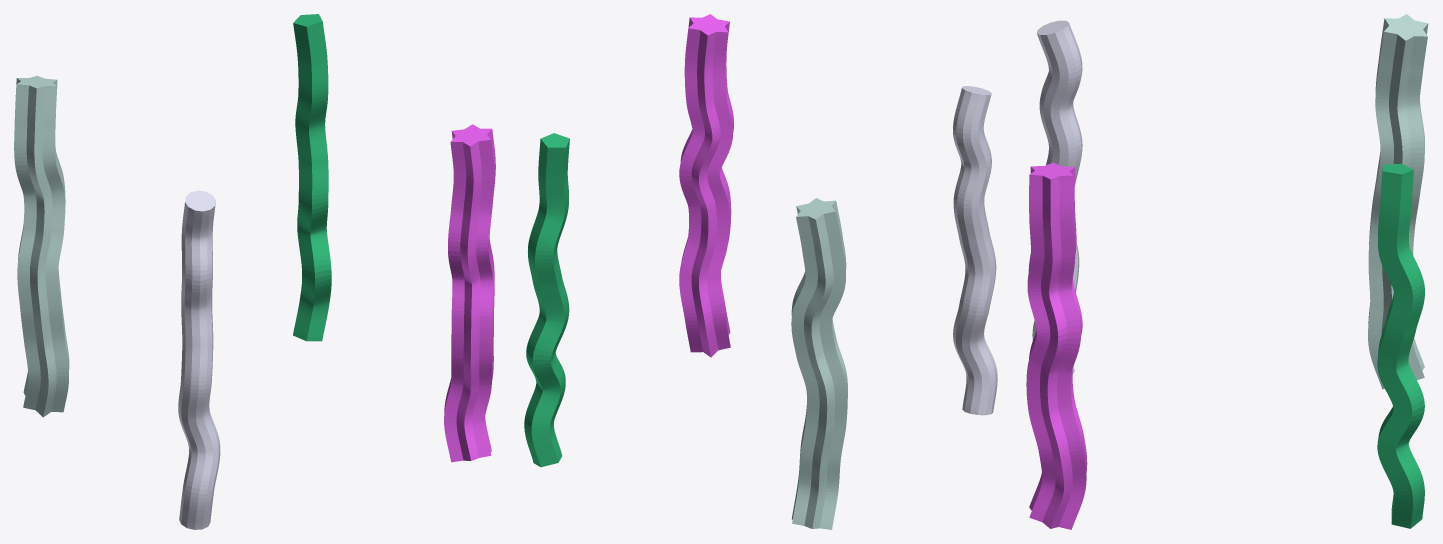
File: LineMats_1_OpenedSplineTest_2023-06-04-21-23-00.gltf
3 views of the same model, side by side, from view 1: azimuth 30°, elevation 25°; view 2: azimuth 150°, elevation 25°; view 3: azimuth 270°, elevation 25° (orthographic). The views are drawn at different scales.
Bounding box in the file's own units: 237 × 232 × 236.
